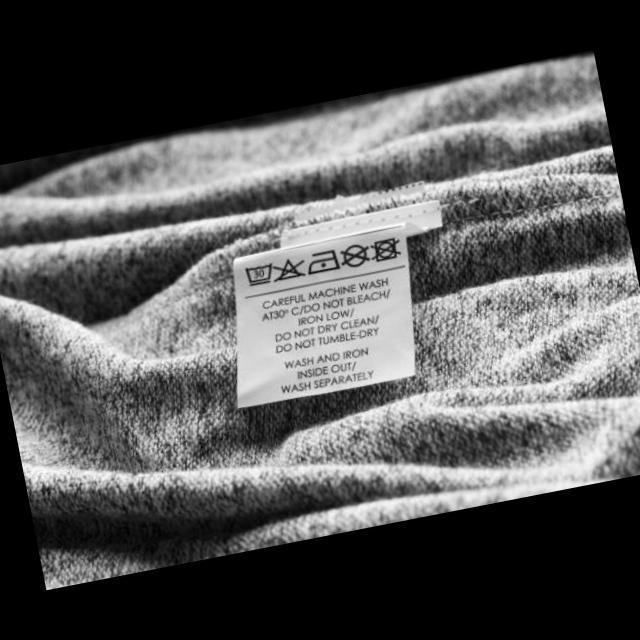30C: (242, 260, 278, 289)
DN_bleach: (269, 253, 308, 284)
DN_dry_clean: (336, 240, 375, 272)
DN_tumble_dry: (368, 236, 406, 266)
iron_low: (304, 247, 342, 278)
